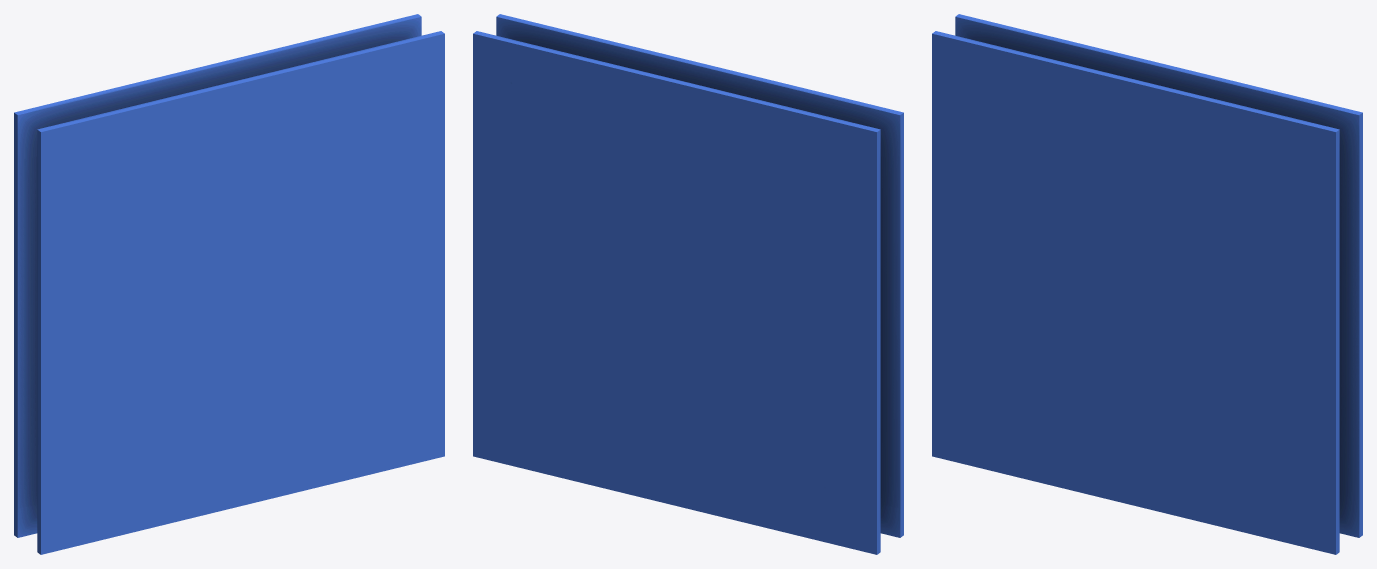
Rendered from squareplatform.fbx.
3 views of the same model, side by side, from view 1: azimuth 30°, elevation 25°; view 2: azimuth 150°, elevation 25°; view 3: azimuth 330°, elevation 25° (orthographic).
Parts seen in each view (by area): view 1: Cube; view 2: Cube; view 3: Cube.
Boxes of the visible parts, <box> form: Cube: <box>14,14,444,554</box>; Cube: <box>473,14,903,554</box>; Cube: <box>932,14,1362,554</box>.
Bounding box in the file's own units: 107 × 107 × 12.28.
1 material, 1 textured.
